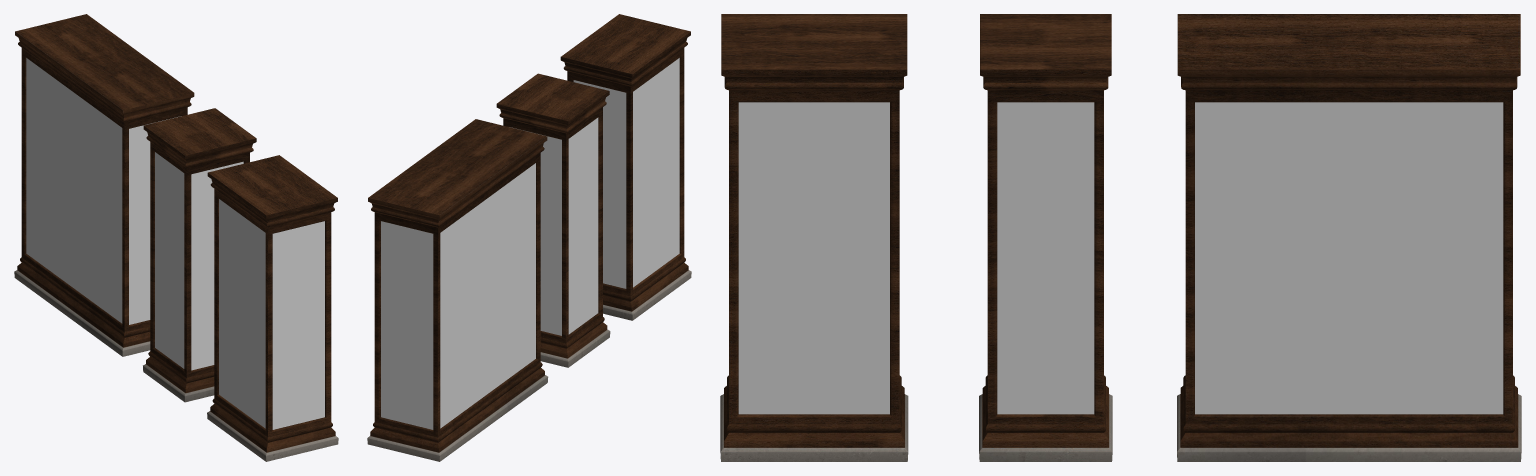
File: Showcases Assetpack.fbx
The picture shows the model from 3 angles, left to right: view 1: azimuth 30°, elevation 25°; view 2: azimuth 150°, elevation 25°; view 3: azimuth 270°, elevation 25°; orthographic projection. The views are drawn at different scales.
Parts seen in each view (by area): view 1: Glass.ShowcaseTall, Glass.ShowcaseMedium, ShowcaseGross, ShowcaseMittel, Glass.ShowcaseSmall, ShowcaseKlein; view 2: Glass.ShowcaseTall, ShowcaseGross, Glass.ShowcaseMedium, ShowcaseMittel, Glass.ShowcaseSmall, ShowcaseKlein; view 3: Glass.ShowcaseTall, ShowcaseGross, Glass.ShowcaseMedium, ShowcaseMittel, Glass.ShowcaseSmall, ShowcaseKlein.
Boxes of the visible parts, x1=… form: Glass.ShowcaseTall: x1=26, y1=58, x2=181, y2=324; Glass.ShowcaseMedium: x1=219, y1=199, x2=324, y2=429; ShowcaseGross: x1=14, y1=14, x2=194, y2=356; ShowcaseMittel: x1=207, y1=155, x2=338, y2=461; Glass.ShowcaseSmall: x1=155, y1=152, x2=243, y2=370; ShowcaseKlein: x1=143, y1=108, x2=256, y2=402; Glass.ShowcaseTall: x1=381, y1=163, x2=535, y2=429; ShowcaseGross: x1=367, y1=119, x2=548, y2=461; Glass.ShowcaseMedium: x1=573, y1=58, x2=679, y2=288; ShowcaseMittel: x1=560, y1=14, x2=691, y2=320; Glass.ShowcaseSmall: x1=509, y1=117, x2=598, y2=335; ShowcaseKlein: x1=496, y1=73, x2=610, y2=367; Glass.ShowcaseTall: x1=1195, y1=102, x2=1503, y2=414; ShowcaseGross: x1=1177, y1=14, x2=1521, y2=461; Glass.ShowcaseMedium: x1=738, y1=102, x2=889, y2=414; ShowcaseMittel: x1=720, y1=14, x2=908, y2=461; Glass.ShowcaseSmall: x1=997, y1=102, x2=1094, y2=414; ShowcaseKlein: x1=979, y1=14, x2=1112, y2=461.
Size of the model in its own units: 75.33 by 244 by 452.
